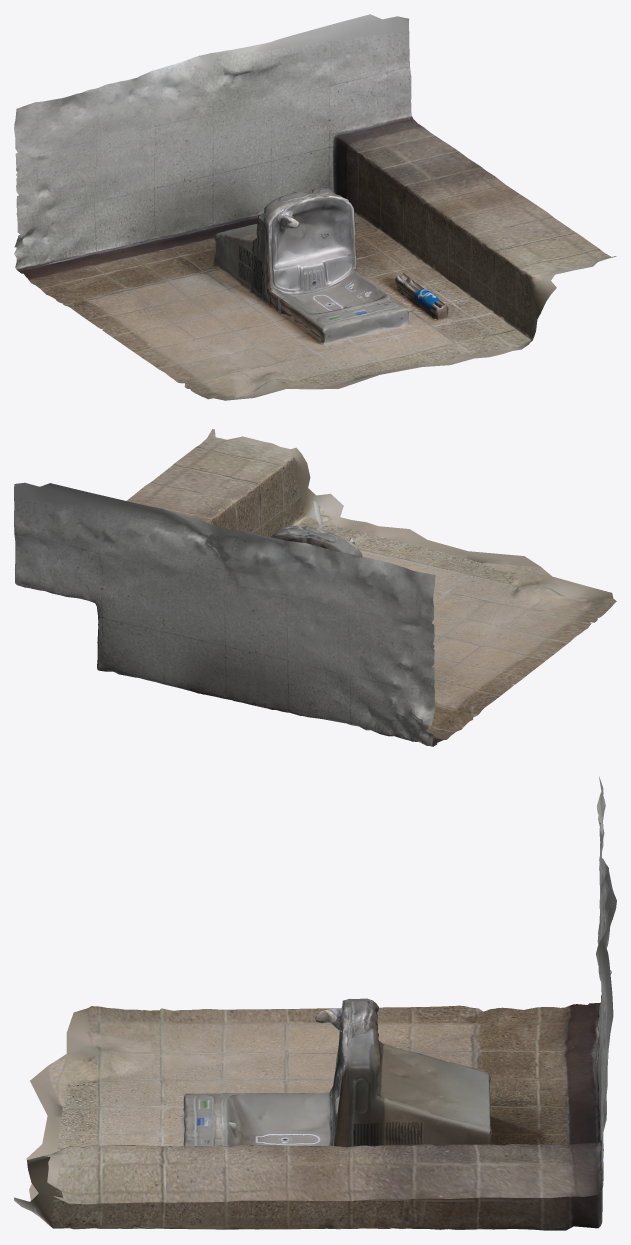
The model's file is fountain on wall.obj.
The picture shows the model from 3 angles, top to bottom: view 1: azimuth 30°, elevation 25°; view 2: azimuth 150°, elevation 25°; view 3: azimuth 270°, elevation 25°; orthographic projection. The views are drawn at different scales.
Visible parts, largest first — view 1: fountain-on-wall_LowPoly; view 2: fountain-on-wall_LowPoly; view 3: fountain-on-wall_LowPoly.
Boxes of the visible parts, box(x1,y1,x2,y2) form: fountain-on-wall_LowPoly: box(14, 14, 616, 400); fountain-on-wall_LowPoly: box(14, 429, 616, 746); fountain-on-wall_LowPoly: box(14, 776, 616, 1230).
Bounding box in the file's own units: 23.43 × 9.54 × 21.56.
